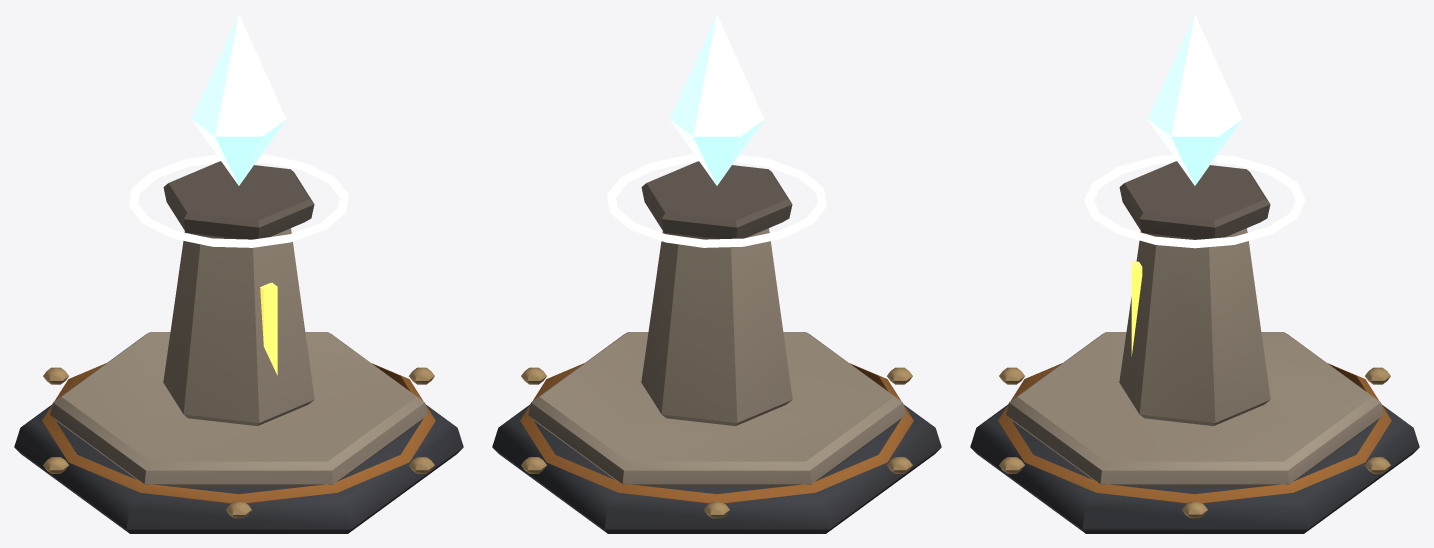
Rendered from nains_2.glb.
The picture shows the model from 3 angles, left to right: view 1: azimuth 30°, elevation 25°; view 2: azimuth 150°, elevation 25°; view 3: azimuth 270°, elevation 25°; orthographic projection.
Parts seen in each view (by area): view 1: nains_2_peint, Cristal_lueur, Givre, Rune; view 2: nains_2_peint, Cristal_lueur, Givre; view 3: nains_2_peint, Cristal_lueur, Givre, Rune.
Part boxes in pixels (x1=…): nains_2_peint: x1=14, y1=161, x2=463, y2=533; Cristal_lueur: x1=191, y1=14, x2=286, y2=185; Givre: x1=129, y1=154, x2=348, y2=247; Rune: x1=260, y1=282, x2=277, y2=375; nains_2_peint: x1=492, y1=161, x2=941, y2=533; Cristal_lueur: x1=669, y1=14, x2=764, y2=185; Givre: x1=607, y1=154, x2=826, y2=247; nains_2_peint: x1=970, y1=161, x2=1419, y2=533; Cristal_lueur: x1=1147, y1=14, x2=1242, y2=185; Givre: x1=1084, y1=155, x2=1305, y2=248; Rune: x1=1131, y1=261, x2=1142, y2=355.
Size of the model in its own units: 0.8433 by 0.92 by 0.8516.
